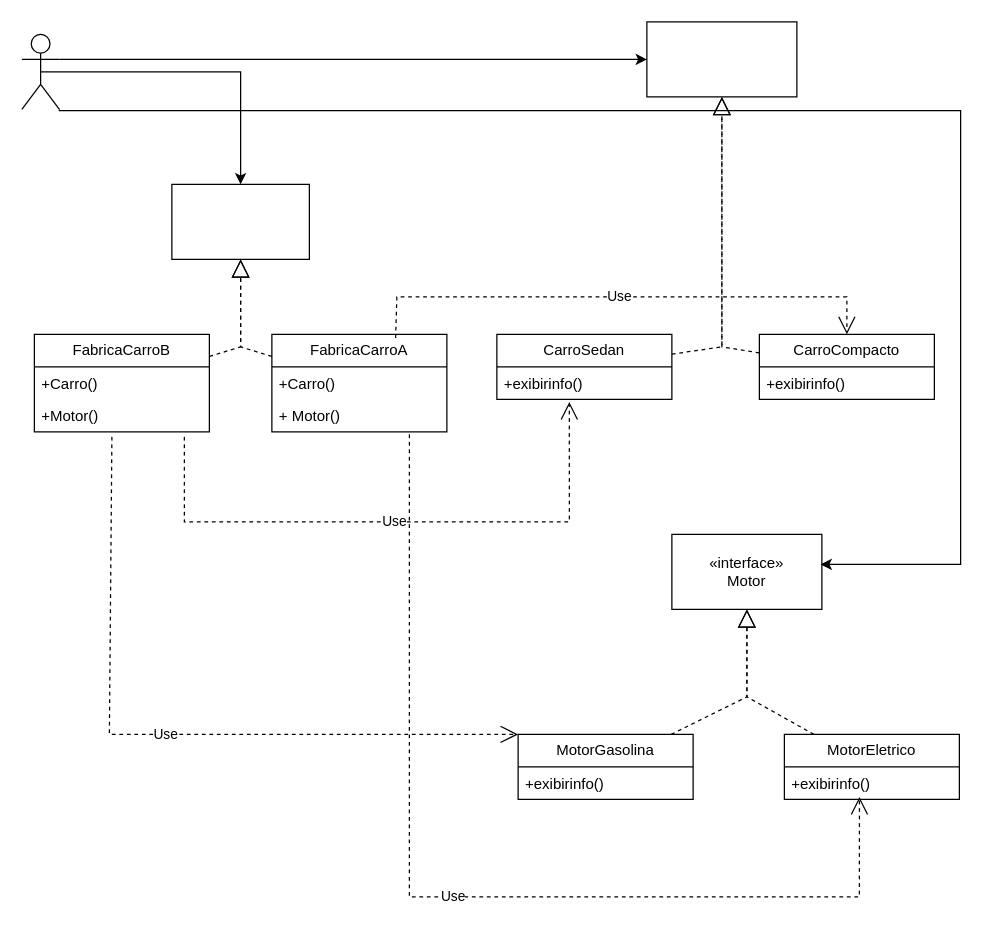
This 993x936 diagram has some shape labels left out. The centre of each missing label's shape, as x and y in pixels:
"Main" goes at point 40,71.
"«interface» Carro" goes at point 721,59.
"«interface» FabricaCarro" goes at point 240,221.
